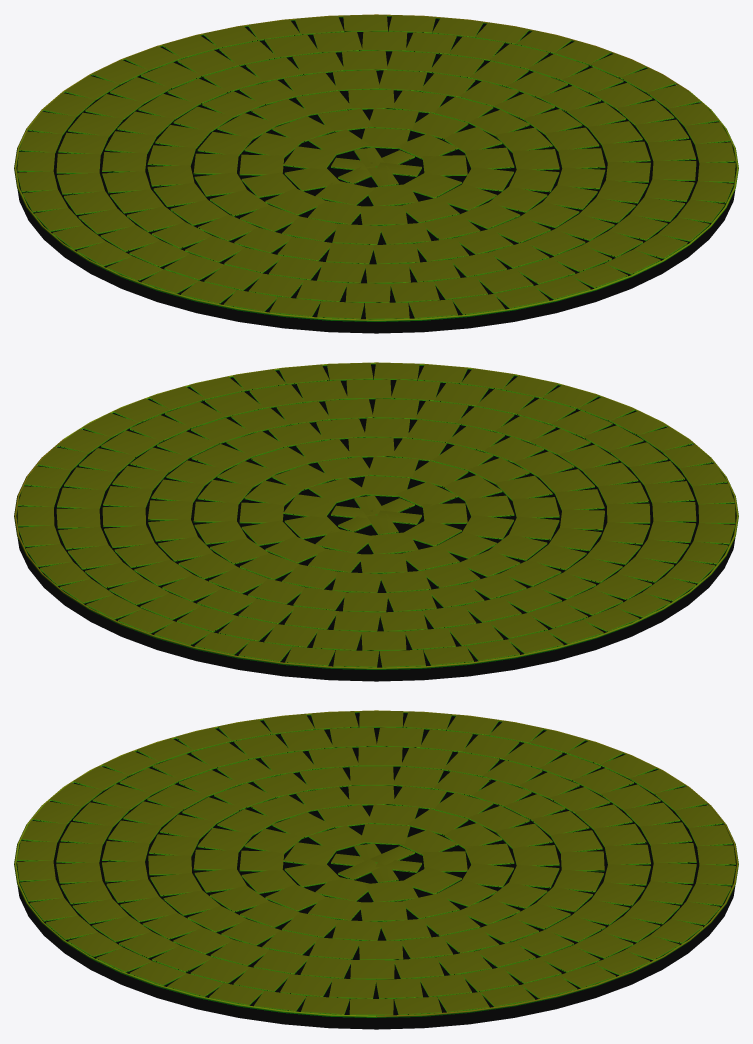
File: heart_floor.glb
3 views of the same model, one above another, from view 1: azimuth 30°, elevation 25°; view 2: azimuth 150°, elevation 25°; view 3: azimuth 270°, elevation 25° (orthographic).
Visible parts, largest first — view 1: heart_floor; view 2: heart_floor; view 3: heart_floor.
Boxes of the visible parts, bbox=[...] form: heart_floor: bbox=[14, 14, 738, 333]; heart_floor: bbox=[14, 362, 738, 681]; heart_floor: bbox=[14, 710, 738, 1029].
Size of what is drawn, in the model's own units: 22.14 by 0.4958 by 22.14.
